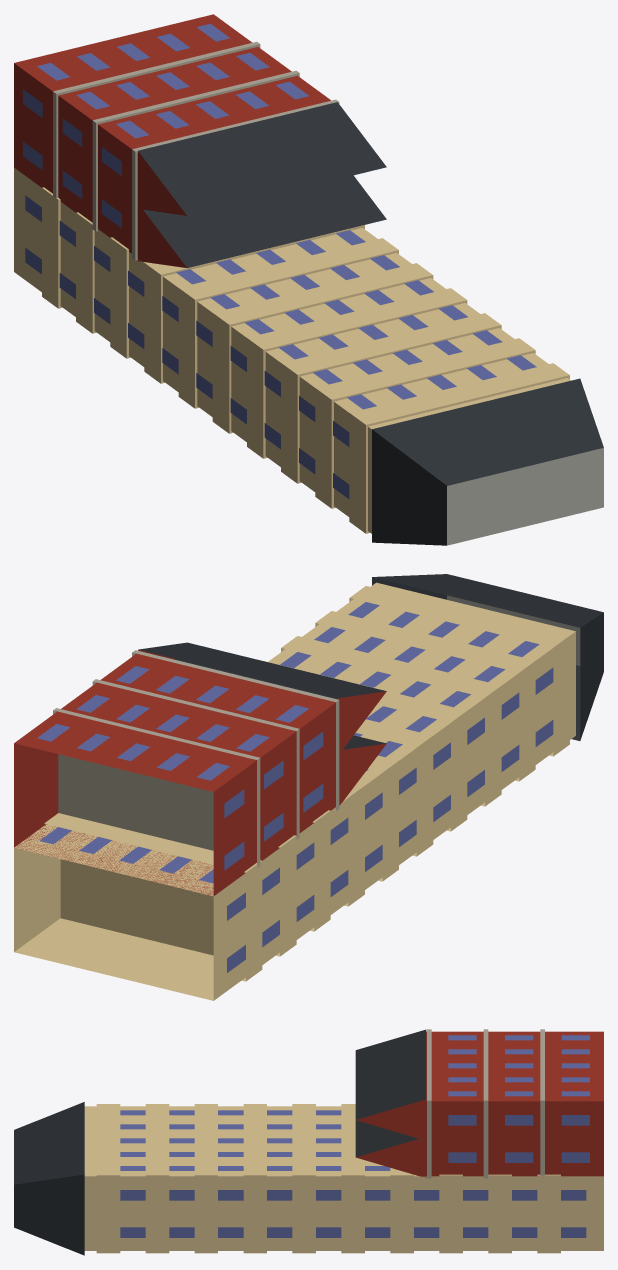
Rendered from construction_2.glb.
The picture shows the model from 3 angles, top to bottom: view 1: azimuth 30°, elevation 25°; view 2: azimuth 150°, elevation 25°; view 3: azimuth 270°, elevation 25°; orthographic projection. The views are drawn at different scales.
Visible parts, largest first — view 1: construction_2; view 2: construction_2; view 3: construction_2.
Part boxes in pixels (<box>): construction_2: <box>14,14,603,545</box>; construction_2: <box>14,574,603,1000</box>; construction_2: <box>14,1029,603,1255</box>.
Bounding box in the file's own units: 14.6 × 14.5 × 50.
